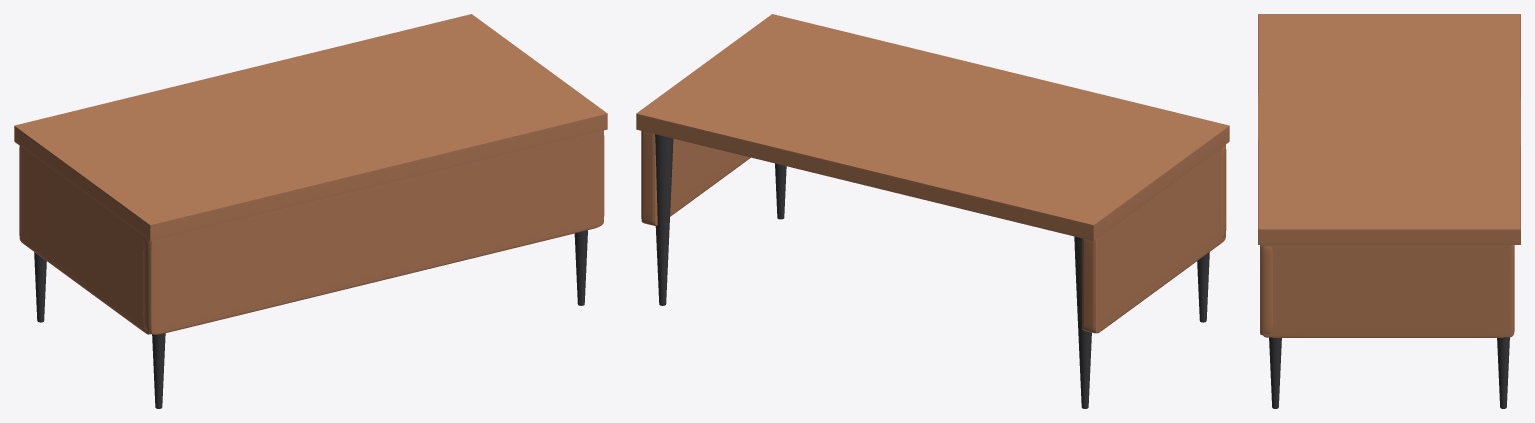
Rendered from teacher_desk.glb.
3 views of the same model, side by side, from view 1: azimuth 30°, elevation 25°; view 2: azimuth 150°, elevation 25°; view 3: azimuth 270°, elevation 25° (orthographic). The views are drawn at different scales.
Visible parts, largest first — view 1: teacher_desk; view 2: teacher_desk; view 3: teacher_desk.
Part boxes in pixels (x1=…): teacher_desk: x1=14, y1=14, x2=607, y2=408; teacher_desk: x1=636, y1=14, x2=1229, y2=408; teacher_desk: x1=1258, y1=14, x2=1520, y2=408.
Bounding box in the file's own units: 1.44 × 0.5817 × 0.742.
